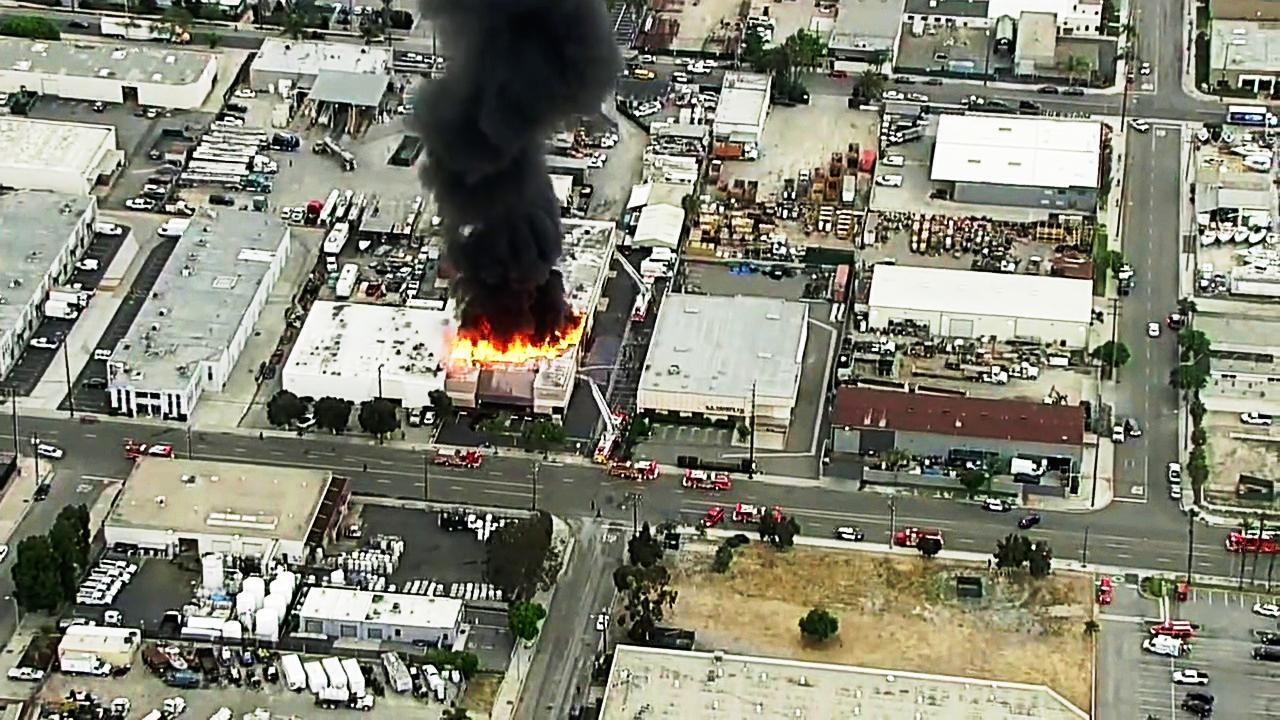fire: (430, 328, 564, 369)
smoke: (427, 7, 597, 327)
